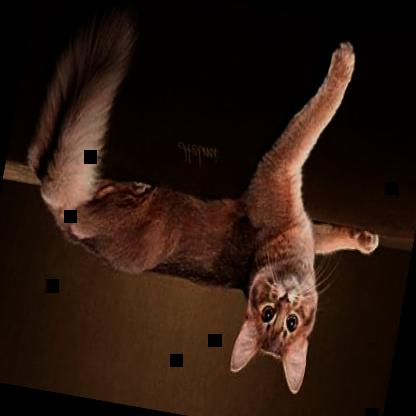cat: (0, 0, 413, 406)
